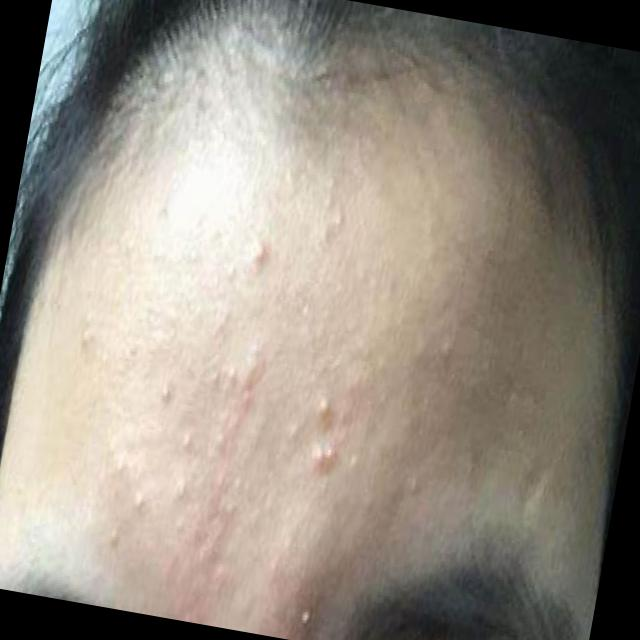fungal: (88, 305, 372, 625)
